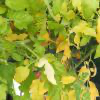Tomato leaf yellow virus: (8, 9, 35, 31), (55, 38, 73, 65), (12, 65, 31, 85), (80, 2, 97, 23), (60, 76, 77, 86)
